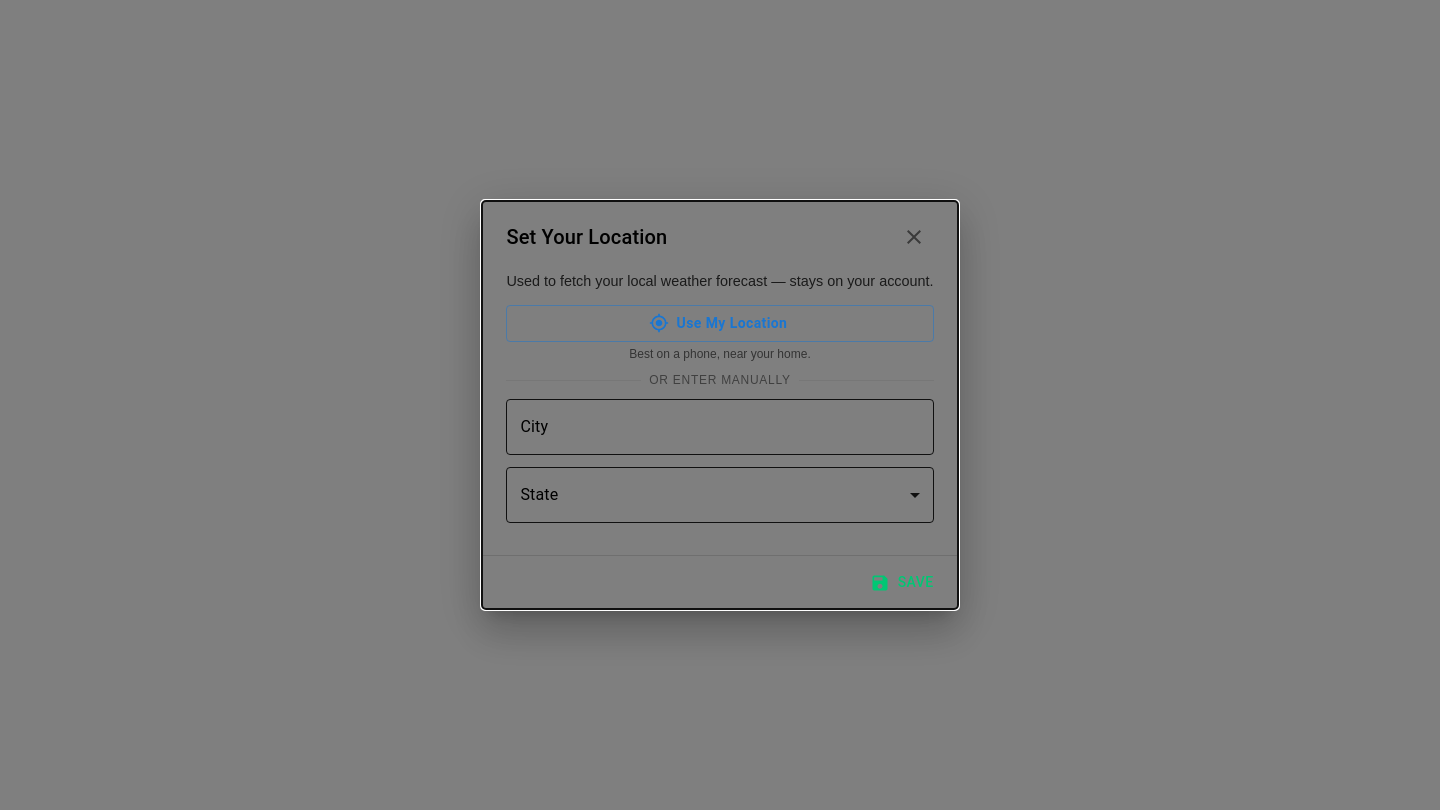
Test: CityPrompt › should populate city input when Use My Location succeeds
Click the button "Use My Location" at (720, 323), box [506,305,934,342]
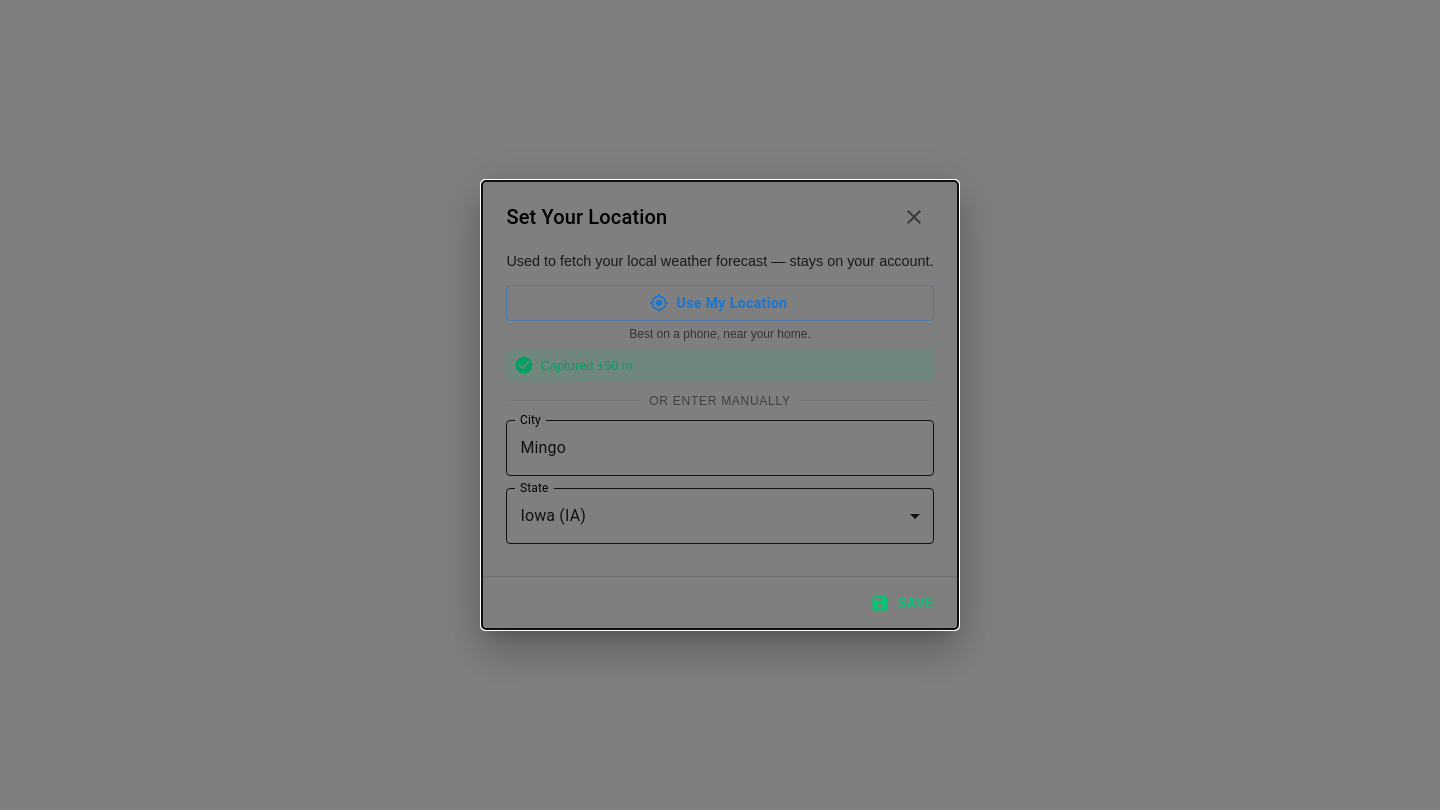
Check: the field labelled "City" holds "Mingo", box [506,420,934,476]
